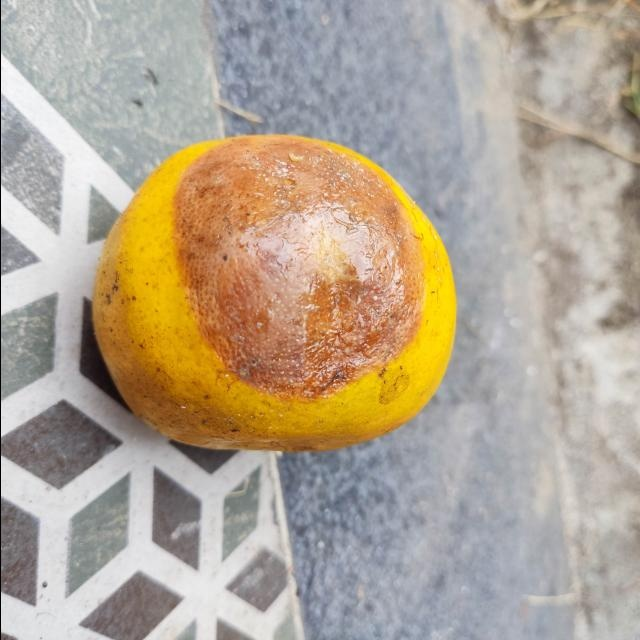agrume: (88, 131, 460, 457)
